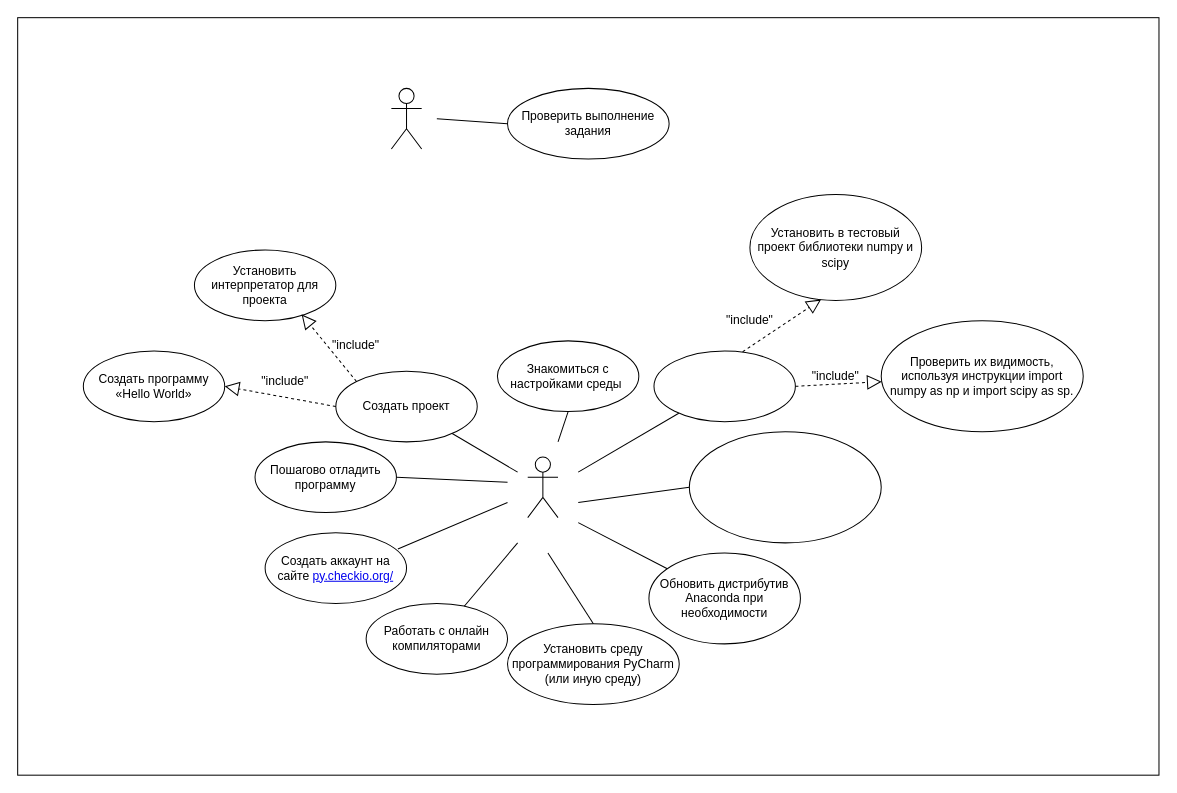
The diagram is 1177 pixels wide and 793 high, and some of its shapes have lost their labels. The box of each missing label's shape, as (x1, y1, x2, y2) in pixels:
Подключить библиотеки: (653, 350, 795, 422)
Преподаватель: (390, 87, 422, 149)
Студент: (527, 456, 558, 518)
Установить язык Python при помощи дистрибутива Anaconda: (688, 431, 881, 543)
